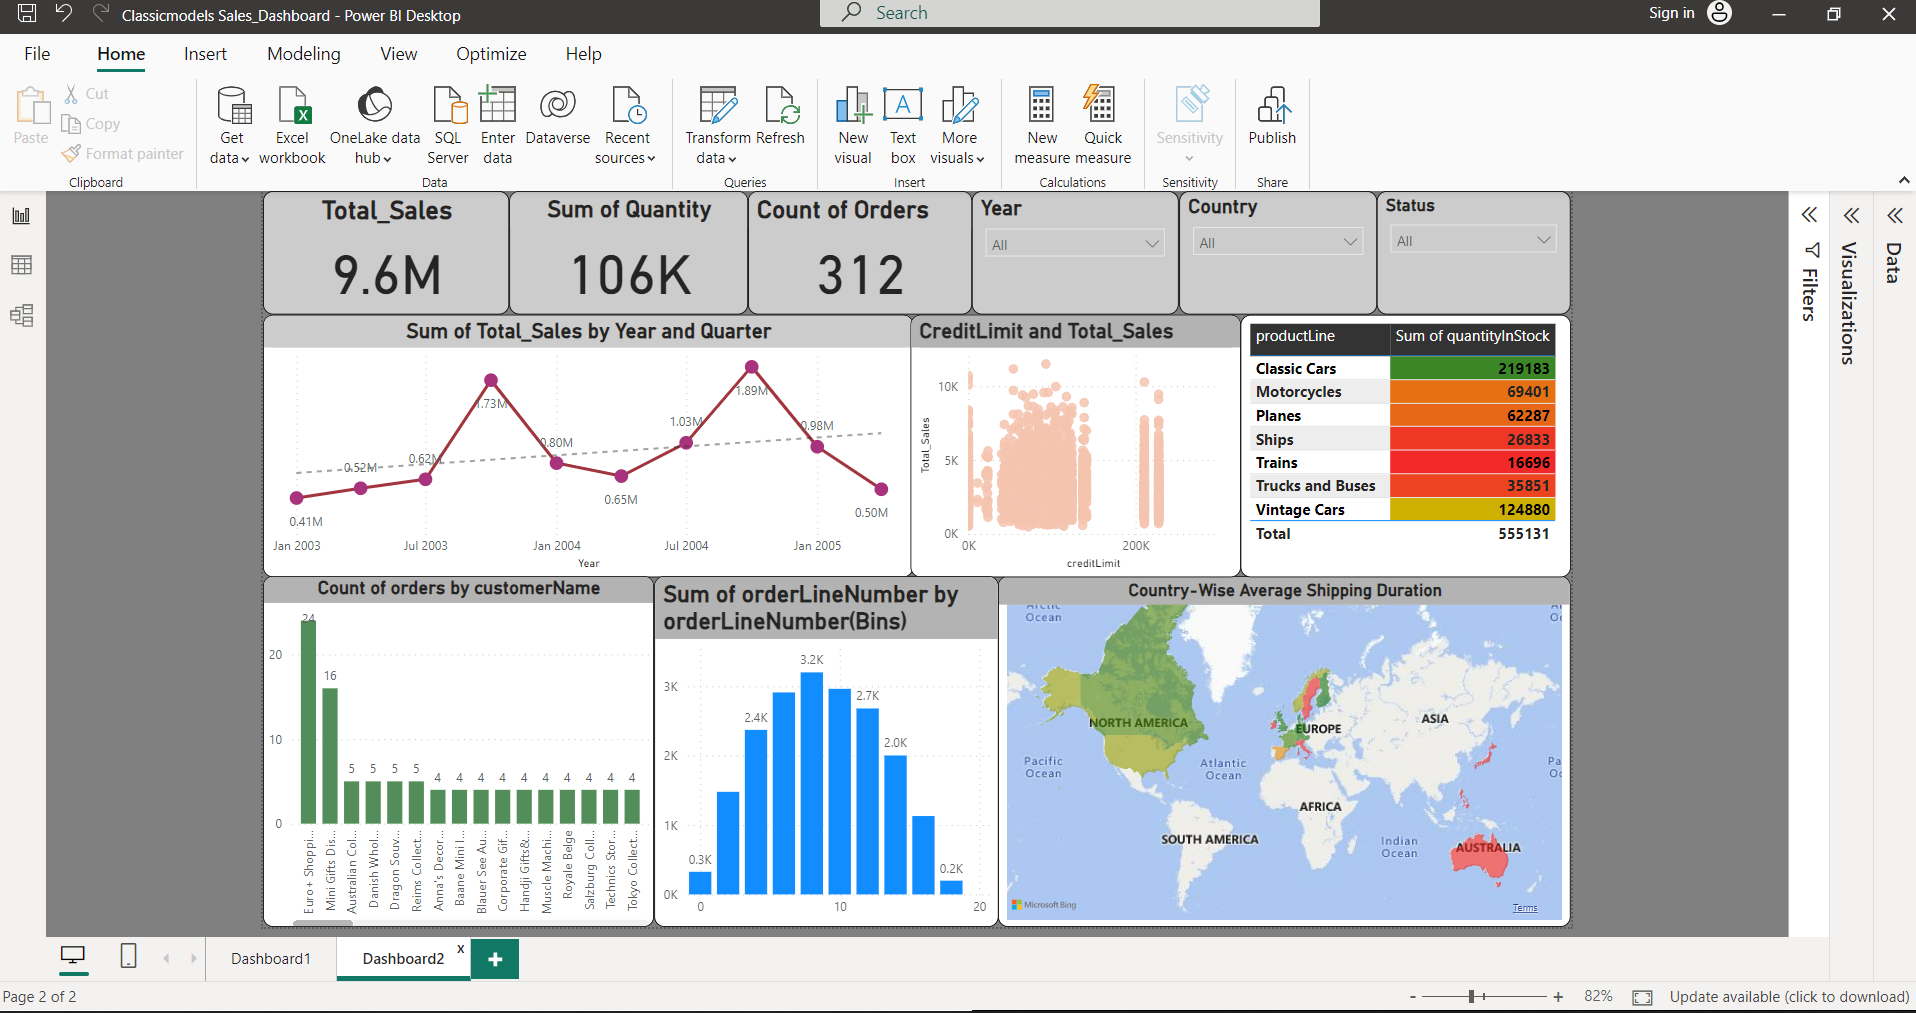

The page's visual inventory and layout, read from the dashboard file:
{"tool":"powerbi","page":{"name":" Dashboard2","canvas":[1280,720],"ordinal":1},"visuals":[{"type":"slicer","title":"Country","fields":{"Values":["classicmodels customers.country"]},"box":[896.2,0,193.6,120.5],"z":4000},{"type":"card","title":"Total_Sales","fields":{"Values":["Sum(classicmodels orderdetails.Total_Sales)"]},"box":[0,0,241,120.5],"z":6000},{"type":"card","title":"Sum of Quantity ","fields":{"Values":["Sum(classicmodels orderdetails.quantityOrdered)"]},"box":[241,0,233.3,120.5],"z":7000},{"type":"slicer","title":"Year","fields":{"Values":["classicmodels orders.orderDate.Variation.Date Hierarchy.Year"]},"box":[693.6,0,202.6,120.5],"z":8000},{"type":"lineChart","fields":{"Category":["classicmodels orders.orderDate.Variation.Date Hierarchy.Year","classicmodels orders.orderDate.Variation.Date Hierarchy.Quarter"],"Y":["Sum(classicmodels orderdetails.Total_Sales)"]},"box":[0,120.5,635.9,256.4],"z":9001},{"type":"card","title":"Count of Orders ","fields":{"Values":["Count(classicmodels orders.orderNumber)"]},"box":[474.4,0,219.2,120.5],"z":9002},{"type":"slicer","title":"Status","fields":{"Values":["classicmodels orders.status"]},"box":[1089.7,0,189.7,120.5],"z":9003},{"type":"filledMap","title":"Country-Wise Average Shipping Duration","fields":{"Category":["classicmodels customers.country"]},"box":[719.2,376.9,560.3,343.6],"z":9005},{"type":"tableEx","fields":{"Values":["classicmodels products.productLine","Sum(classicmodels products.quantityInStock)"]},"box":[956.4,120.5,323.1,256.4],"z":9006},{"type":"scatterChart","title":"CreditLimit and Total_Sales","fields":{"X":["classicmodels customers.creditLimit"],"Y":["classicmodels orderdetails.Total_Sales"]},"box":[633.3,120.5,323.1,256.4],"z":9007},{"type":"columnChart","title":"Count of orders by customerName","fields":{"Category":["classicmodels customers.customerName"],"Y":["CountNonNull(classicmodels orders.orderNumber)"]},"box":[0,376.9,382.1,343.6],"z":9008},{"type":"clusteredColumnChart","title":"Sum of orderLineNumber by orderLineNumber(Bins)","fields":{"Category":["classicmodels orderdetails.orderLineNumber (bins)"],"Y":["Sum(classicmodels orderdetails.orderLineNumber)"]},"box":[382.1,376.9,337.2,343.6],"z":9009}]}

Visuals, with their boxes on the page's 1280x720 design canvas (x1, y1, x2, y2). These are canvas units, not pixel positions in the 1916x1013 screenshot, which may show the page scaled, cropped or inside an application window:
"Country" slicer: x1=896 y1=0 x2=1090 y2=120
"Total_Sales" card: x1=0 y1=0 x2=241 y2=120
"Sum of Quantity " card: x1=241 y1=0 x2=474 y2=120
"Year" slicer: x1=694 y1=0 x2=896 y2=120
lineChart - classicmodels orders.orderDate.Variation.Date Hierarchy.Year x classicmodels orders.orderDate.Variation.Date Hierarchy.Quarter: x1=0 y1=120 x2=636 y2=377
"Count of Orders " card: x1=474 y1=0 x2=694 y2=120
"Status" slicer: x1=1090 y1=0 x2=1279 y2=120
"Country-Wise Average Shipping Duration" filledMap: x1=719 y1=377 x2=1280 y2=720
tableEx - classicmodels products.productLine x Sum(classicmodels products.quantityInStock): x1=956 y1=120 x2=1280 y2=377
"CreditLimit and Total_Sales" scatterChart: x1=633 y1=120 x2=956 y2=377
"Count of orders by customerName" columnChart: x1=0 y1=377 x2=382 y2=720
"Sum of orderLineNumber by orderLineNumber(Bins)" clusteredColumnChart: x1=382 y1=377 x2=719 y2=720
